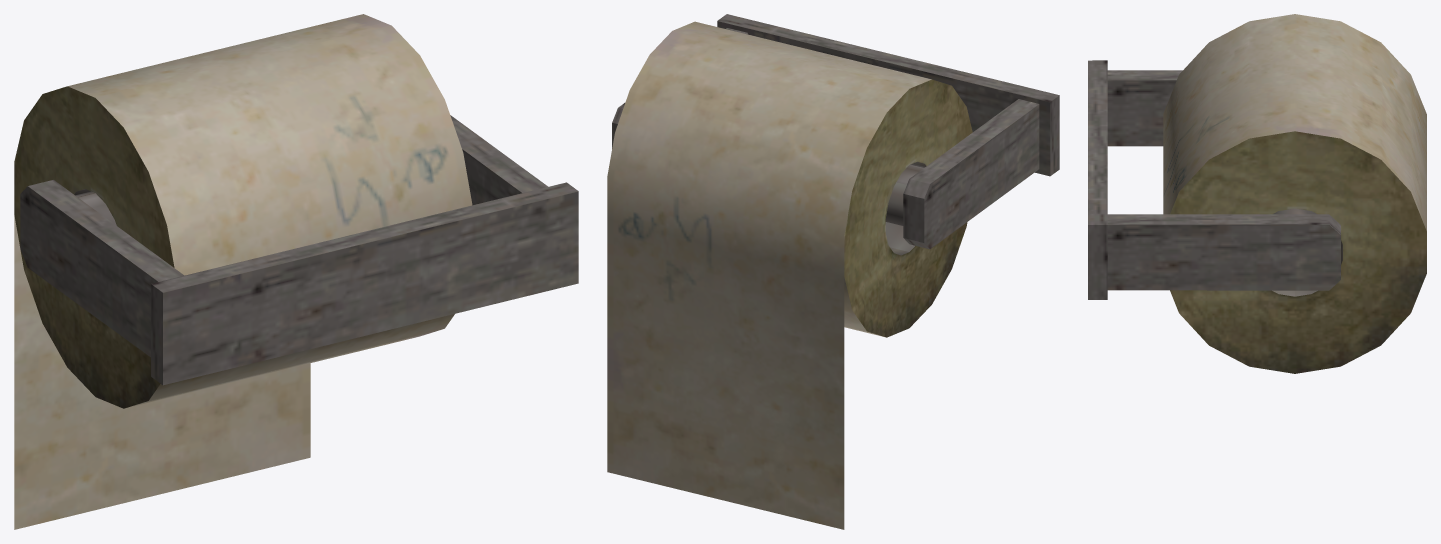
The model's file is toiletpaperrool.fbx.
The picture shows the model from 3 angles, left to right: view 1: azimuth 30°, elevation 25°; view 2: azimuth 150°, elevation 25°; view 3: azimuth 270°, elevation 25°; orthographic projection. The views are drawn at different scales.
Visible parts, largest first — view 1: Toilet_paper_rack; view 2: Toilet_paper_rack; view 3: Toilet_paper_rack.
Part boxes in pixels (left/top/right/bottom): Toilet_paper_rack: left=14, top=14, right=578, bottom=529; Toilet_paper_rack: left=607, top=14, right=1059, bottom=529; Toilet_paper_rack: left=1088, top=14, right=1426, bottom=373.
Bounding box in the file's own units: 16 × 18.07 × 13.92.
